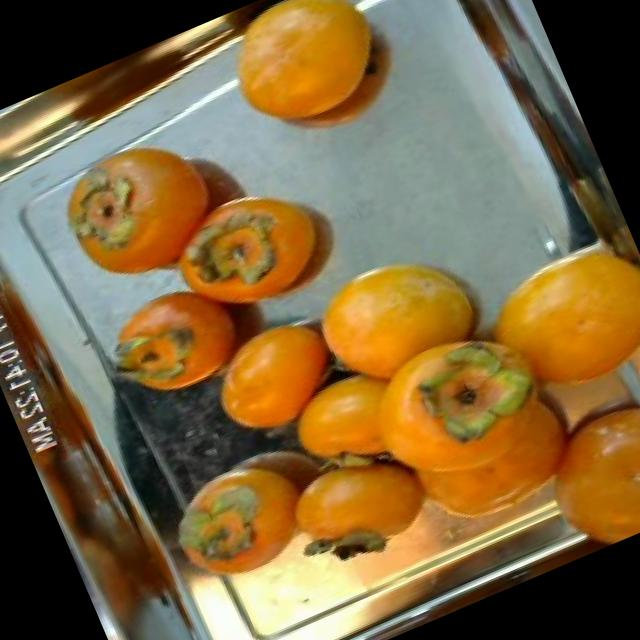Fruit: (280, 206, 530, 437), (138, 147, 378, 346), (443, 206, 640, 437), (195, 0, 434, 181), (178, 286, 378, 460), (84, 252, 270, 420)
